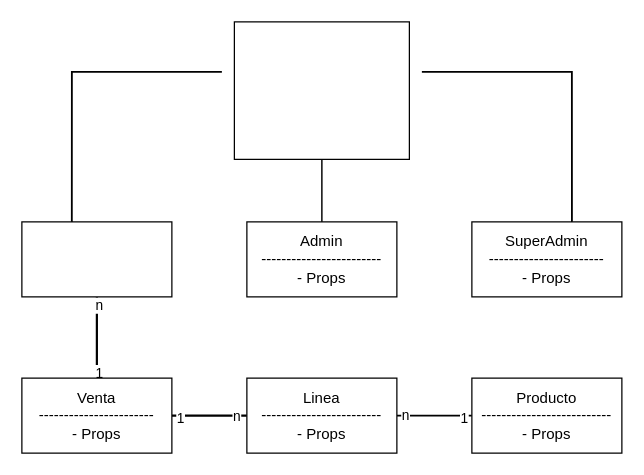
Image size: 644x475. Some labels were removed from this diagram. Each missing label, with the centre of its shape:
Cliente --------------------------- - Props: the point at 96,259
Usuario: --------------------------- - Id - Nombre - Email -- Contraseña: the point at 321,90
